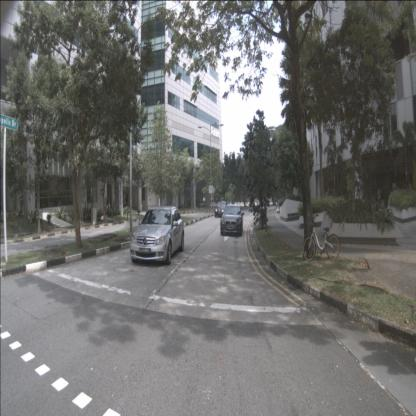human-pedestrian-adult: (276, 200, 278, 210)
vehicle-bicycle: (303, 211, 340, 261)
vehicle-car: (130, 205, 184, 265), (220, 204, 244, 236), (214, 200, 229, 218)
